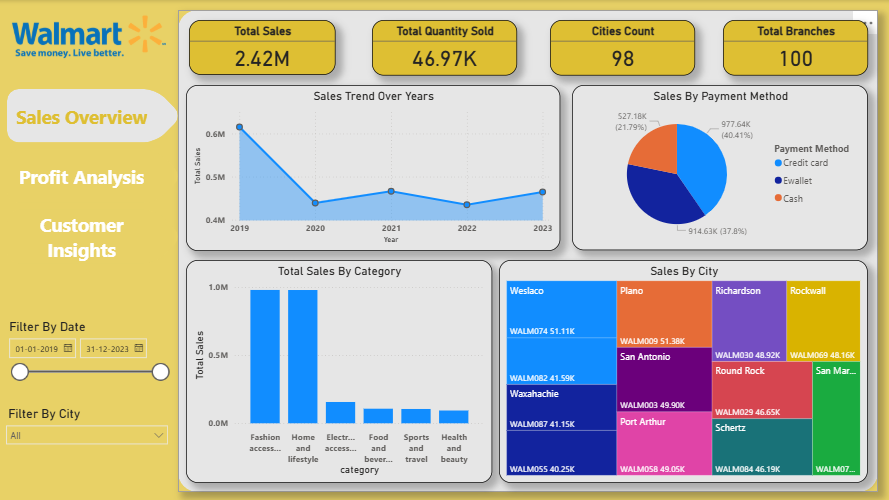

The dashboard page shown, as its layout file describes it:
{"tool":"powerbi","page":{"name":"Sales Overview","canvas":[1280,720],"ordinal":0},"visuals":[{"type":"shape","box":[256.3,14.4,1008,694.1],"z":0},{"type":"image","box":[0,2.5,256.4,99],"z":1000},{"type":"card","title":"Total Sales","fields":{"Values":["Sum(walmart_db walmart_pro.total_sales)"]},"box":[271.7,28.6,210.9,78.7],"z":2000},{"type":"card","title":"Total Quantity Sold","fields":{"Values":["Sum(walmart_db walmart_pro.quantity)"]},"box":[536.3,28.6,209.2,80.4],"z":3000},{"type":"card","title":"Cities Count","fields":{"Values":["Count(walmart_db walmart_pro.City)"]},"box":[792,28.6,209.2,80.4],"z":4000},{"type":"card","title":"Total Branches","fields":{"Values":["Count(walmart_db walmart_pro.Branch)"]},"box":[1040.4,28.6,209.2,80.4],"z":5000},{"type":"lineChart","title":"Sales Trend Over Years","fields":{"Category":["walmart_db walmart_pro.date.Variation.Date Hierarchy.Year","walmart_db walmart_pro.date.Variation.Date Hierarchy.Quarter","walmart_db walmart_pro.date.Variation.Date Hierarchy.Month","walmart_db walmart_pro.date.Variation.Date Hierarchy.Day"],"Y":["Sum(walmart_db walmart_pro.total_sales)"]},"box":[267.8,122.4,538.6,239],"z":6000},{"type":"clusteredColumnChart","title":"Total Sales By Category","fields":{"Category":["walmart_db walmart_pro.category"],"Y":["Sum(walmart_db walmart_pro.total_sales)"]},"box":[267.8,374.4,440.6,321.1],"z":7000},{"type":"pieChart","title":"Sales By Payment Method","fields":{"Category":["walmart_db walmart_pro.payment_method"],"Y":["Sum(walmart_db walmart_pro.total_sales)"]},"box":[823.7,122.4,426.2,237.6],"z":8000},{"type":"treemap","title":"Sales By City","fields":{"Group":["walmart_db walmart_pro.City"],"Details":["walmart_db walmart_pro.Branch"],"Values":["Sum(walmart_db walmart_pro.total_sales)"]},"box":[718.6,374.4,531.4,321.1],"z":9000},{"type":"pageNavigator","box":[10.7,128.7,253.9,252.1],"z":10000},{"type":"slicer","fields":{"Values":["walmart_db walmart_pro.date"]},"box":[4.3,457,246.2,145.4],"z":11000},{"type":"slicer","fields":{"Values":["walmart_db walmart_pro.City"]},"box":[3.6,581.8,246.7,75.1],"z":12000}]}

Visuals, with their boxes in screenshot pixels (x1, y1, x2, y2), scaled from the page's 1280x720 canvas onto the 889x500 screenshot:
shape: 178, 10, 878, 492
image: 0, 2, 178, 70
"Total Sales" card: 189, 20, 335, 75
"Total Quantity Sold" card: 372, 20, 518, 76
"Cities Count" card: 550, 20, 695, 76
"Total Branches" card: 723, 20, 868, 76
"Sales Trend Over Years" lineChart: 186, 85, 560, 251
"Total Sales By Category" clusteredColumnChart: 186, 260, 492, 483
"Sales By Payment Method" pieChart: 572, 85, 868, 250
"Sales By City" treemap: 499, 260, 868, 483
pageNavigator: 7, 89, 184, 264
slicer - walmart_db walmart_pro.date: 3, 317, 174, 418
slicer - walmart_db walmart_pro.City: 3, 404, 174, 456
